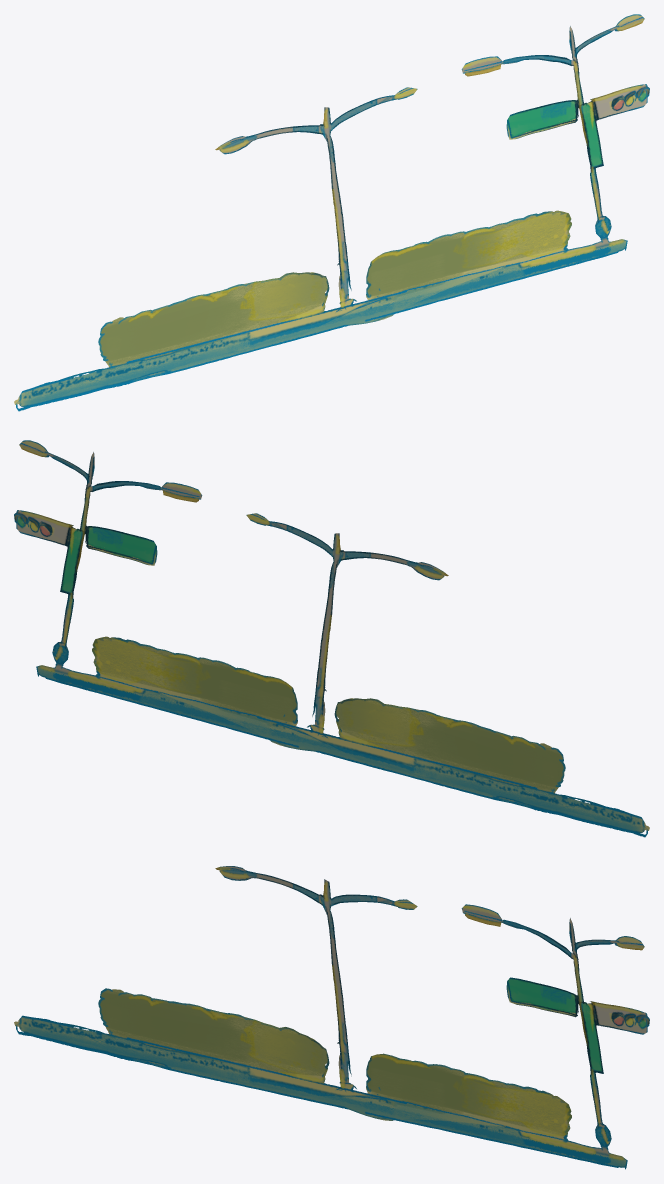
File: island.fbx
The picture shows the model from 3 angles, top to bottom: view 1: azimuth 30°, elevation 25°; view 2: azimuth 150°, elevation 25°; view 3: azimuth 330°, elevation 25°; orthographic projection.
Visible parts, largest first — view 1: mask4; view 2: mask4; view 3: mask4.
Boxes of the visible parts, x1,y1,x2,y2 form: mask4: (14,14,649,411); mask4: (14,440,649,837); mask4: (14,866,649,1169).
Size of the model in its own units: 19.86 by 7.5 by 1.83e-06.
Materials: 1 (1 with a texture image).
